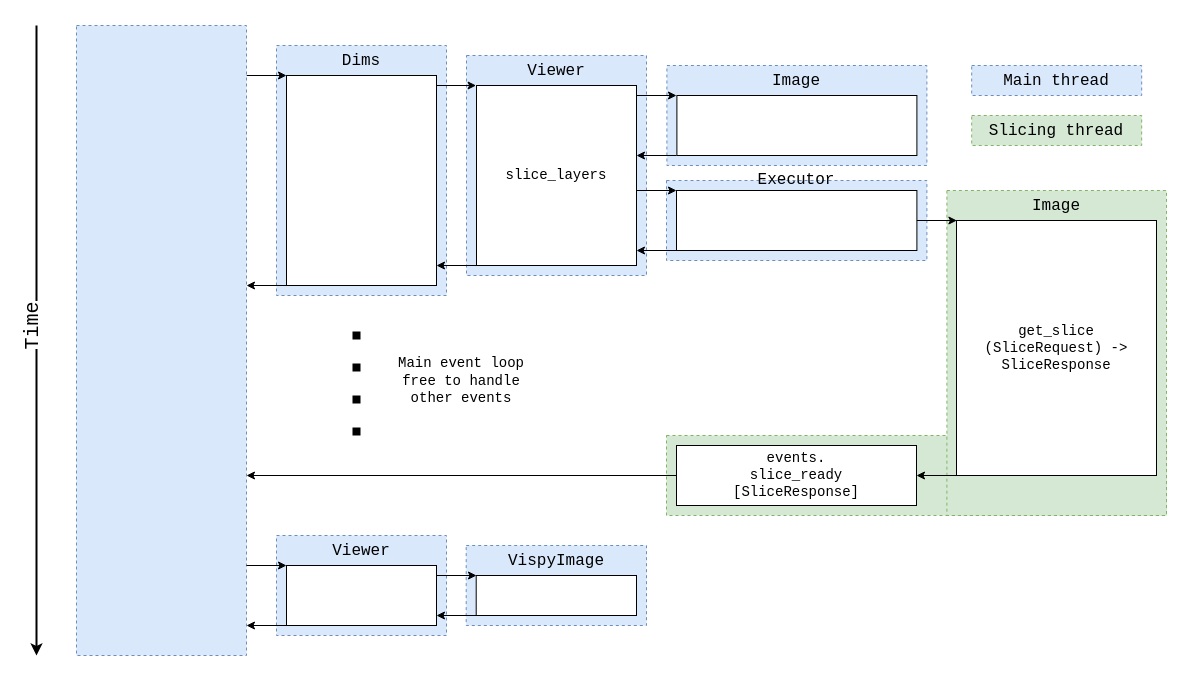
This 1184x681 diagram has some shape labels left out. The centre of each missing label's shape, as x and y in pixels:
events. current_slice: the point at 361,180
make_slice_request (Dims) -> SliceRequest: the point at 796,125
on_slice_ready (SliceResponse): the point at 361,595
Qt main event loop: the point at 161,340
set_slice (SliceResponse): the point at 555,595
submit (., SliceRequest) -> Future[ViewerSliceResponse]: the point at 796,220
